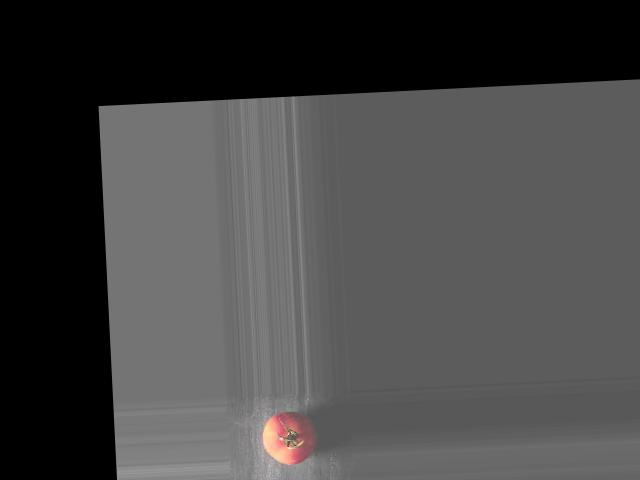tomato: (261, 410, 317, 465)
